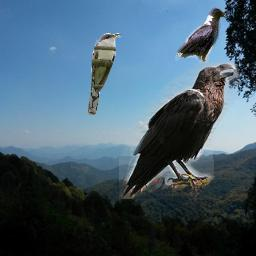Crow: (119, 62, 240, 199), (175, 6, 226, 63)
Cuckoo: (88, 33, 121, 115)
